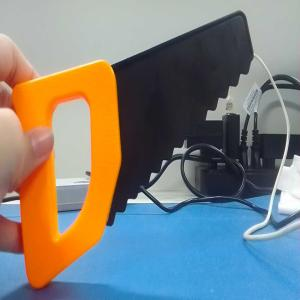serrote: (11, 10, 255, 290)
